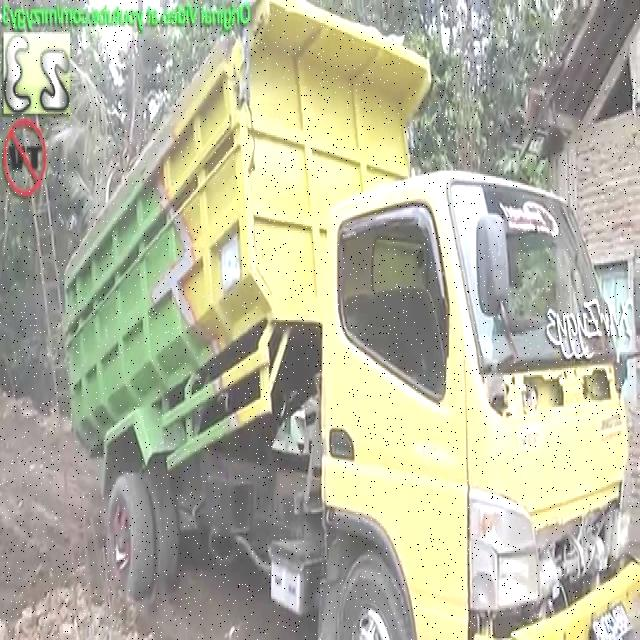truck: (59, 0, 640, 639)
